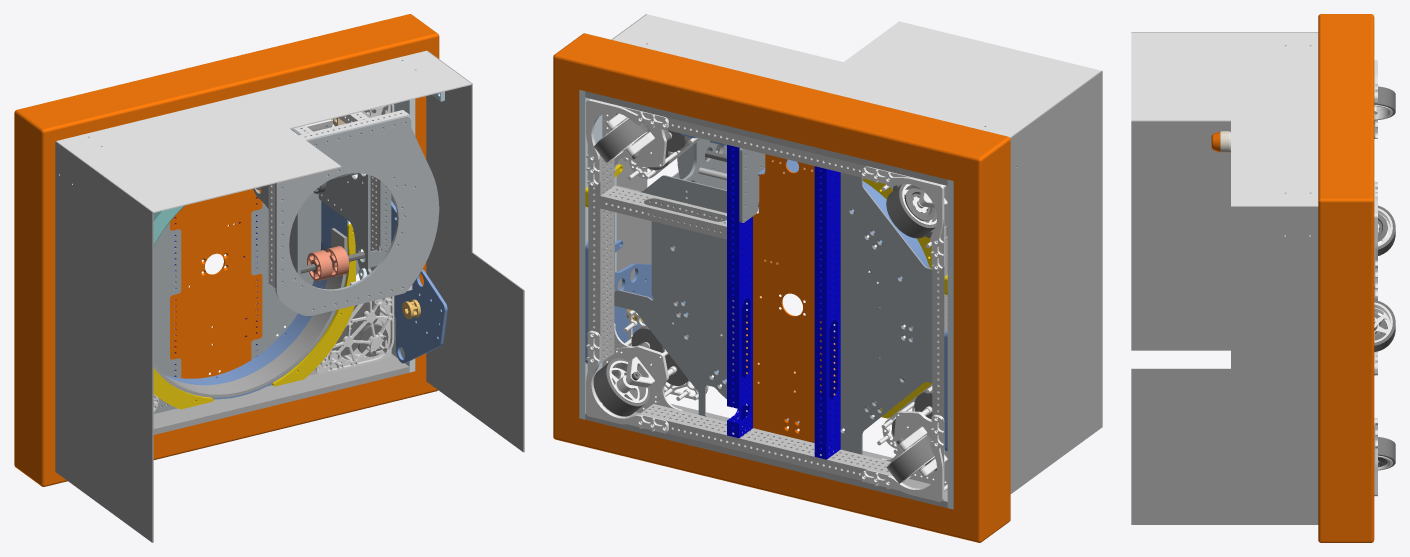
3 views of the same model, side by side, from view 1: azimuth 30°, elevation 25°; view 2: azimuth 150°, elevation 25°; view 3: azimuth 270°, elevation 25° (orthographic). The views are drawn at different scales.
Parts seen in each view (by area): view 1: occurrence of Bump_Noodles, occurrence of Part 17, occurrence of DA_BOX, occurrence of Part 18, occurrence of Turret_Bass_Plate, occurrence of 1/3_SDXP_B, occurrence of 1/3_SDXP_A, occurrence of Bump_FrameL, occurrence of Wall_Foam, occurrence of 1/3_SDXP_C, occurrence of Part 3, occurrence of Spindex_Wall (+10 smaller); view 2: occurrence of Bump_Noodles, occurrence of Part 17, occurrence of DA_BOX, occurrence of 1/3_SDXP_C, occurrence of 1/3_SDXP_B, occurrence of 1/3_SDXP_A, occurrence of MK4i Master Part V2_Default Falcon 500 Config (×8), occurrence of C_Left_Tube 2"x1"x23", occurrence of CRight_Tube 2"x1"x23", occurrence of Bump_FrameL (×2), occurrence of Front_Tube 2"x1"x21.5", occurrence of Bump_FrameW (×2) (+12 smaller); view 3: occurrence of Part 18, occurrence of Bump_Noodles, occurrence of DA_BOX, occurrence of Part 17, occurrence of Tread, Black Nitrile 4in X 1.5in (×3), occurrence of Wheel, SDS, Nitrile Tread, 4in X 1.5in, Bearin, occurrence of MK4i Master Part V2_Default Falcon 500 Config, occurrence of Robot Signal Light (RSL) (Allen Bradley).
Part boxes in pixels (x1=…): occurrence of Bump_Noodles: x1=14, y1=14, x2=439, y2=486; occurrence of Part 17: x1=55, y1=141, x2=153, y2=542; occurrence of DA_BOX: x1=57, y1=50, x2=471, y2=212; occurrence of Part 18: x1=426, y1=50, x2=524, y2=452; occurrence of Turret_Bass_Plate: x1=275, y1=115, x2=439, y2=315; occurrence of 1/3_SDXP_B: x1=170, y1=189, x2=262, y2=378; occurrence of 1/3_SDXP_A: x1=251, y1=180, x2=391, y2=386; occurrence of Bump_FrameL: x1=153, y1=354, x2=409, y2=434; occurrence of Wall_Foam: x1=153, y1=228, x2=347, y2=397; occurrence of 1/3_SDXP_C: x1=153, y1=222, x2=181, y2=413; occurrence of Part 3: x1=391, y1=201, x2=447, y2=363; occurrence of Spindex_Wall: x1=164, y1=201, x2=348, y2=399; occurrence of Bump_Noodles: x1=553, y1=33, x2=1010, y2=542; occurrence of Part 17: x1=1010, y1=70, x2=1102, y2=493; occurrence of DA_BOX: x1=612, y1=14, x2=1100, y2=137; occurrence of 1/3_SDXP_C: x1=833, y1=165, x2=939, y2=460; occurrence of 1/3_SDXP_B: x1=746, y1=148, x2=835, y2=443; occurrence of 1/3_SDXP_A: x1=607, y1=175, x2=752, y2=435; occurrence of MK4i Master Part V2_Default Falcon 500 Config (×8): x1=586, y1=99, x2=947, y2=501; occurrence of C_Left_Tube 2"x1"x23": x1=814, y1=161, x2=840, y2=459; occurrence of CRight_Tube 2"x1"x23": x1=727, y1=140, x2=752, y2=438; occurrence of Bump_FrameL (×2): x1=585, y1=91, x2=947, y2=507; occurrence of Front_Tube 2"x1"x21.5": x1=640, y1=404, x2=892, y2=480; occurrence of Bump_FrameW (×2): x1=579, y1=90, x2=953, y2=509; occurrence of Part 18: x1=1131, y1=206, x2=1318, y2=524; occurrence of Bump_Noodles: x1=1318, y1=14, x2=1374, y2=542; occurrence of DA_BOX: x1=1131, y1=32, x2=1318, y2=206; occurrence of Part 17: x1=1131, y1=32, x2=1318, y2=350; occurrence of Tread, Black Nitrile 4in X 1.5in (×3): x1=1374, y1=86, x2=1395, y2=470; occurrence of Wheel, SDS, Nitrile Tread, 4in X 1.5in, Bearin: x1=1374, y1=302, x2=1392, y2=342; occurrence of MK4i Master Part V2_Default Falcon 500 Config: x1=1374, y1=181, x2=1377, y2=288; occurrence of Robot Signal Light (RSL) (Allen Bradley): x1=1211, y1=131, x2=1230, y2=152.
Size of the model in its own units: 0.9017 by 0.7747 by 0.539.
